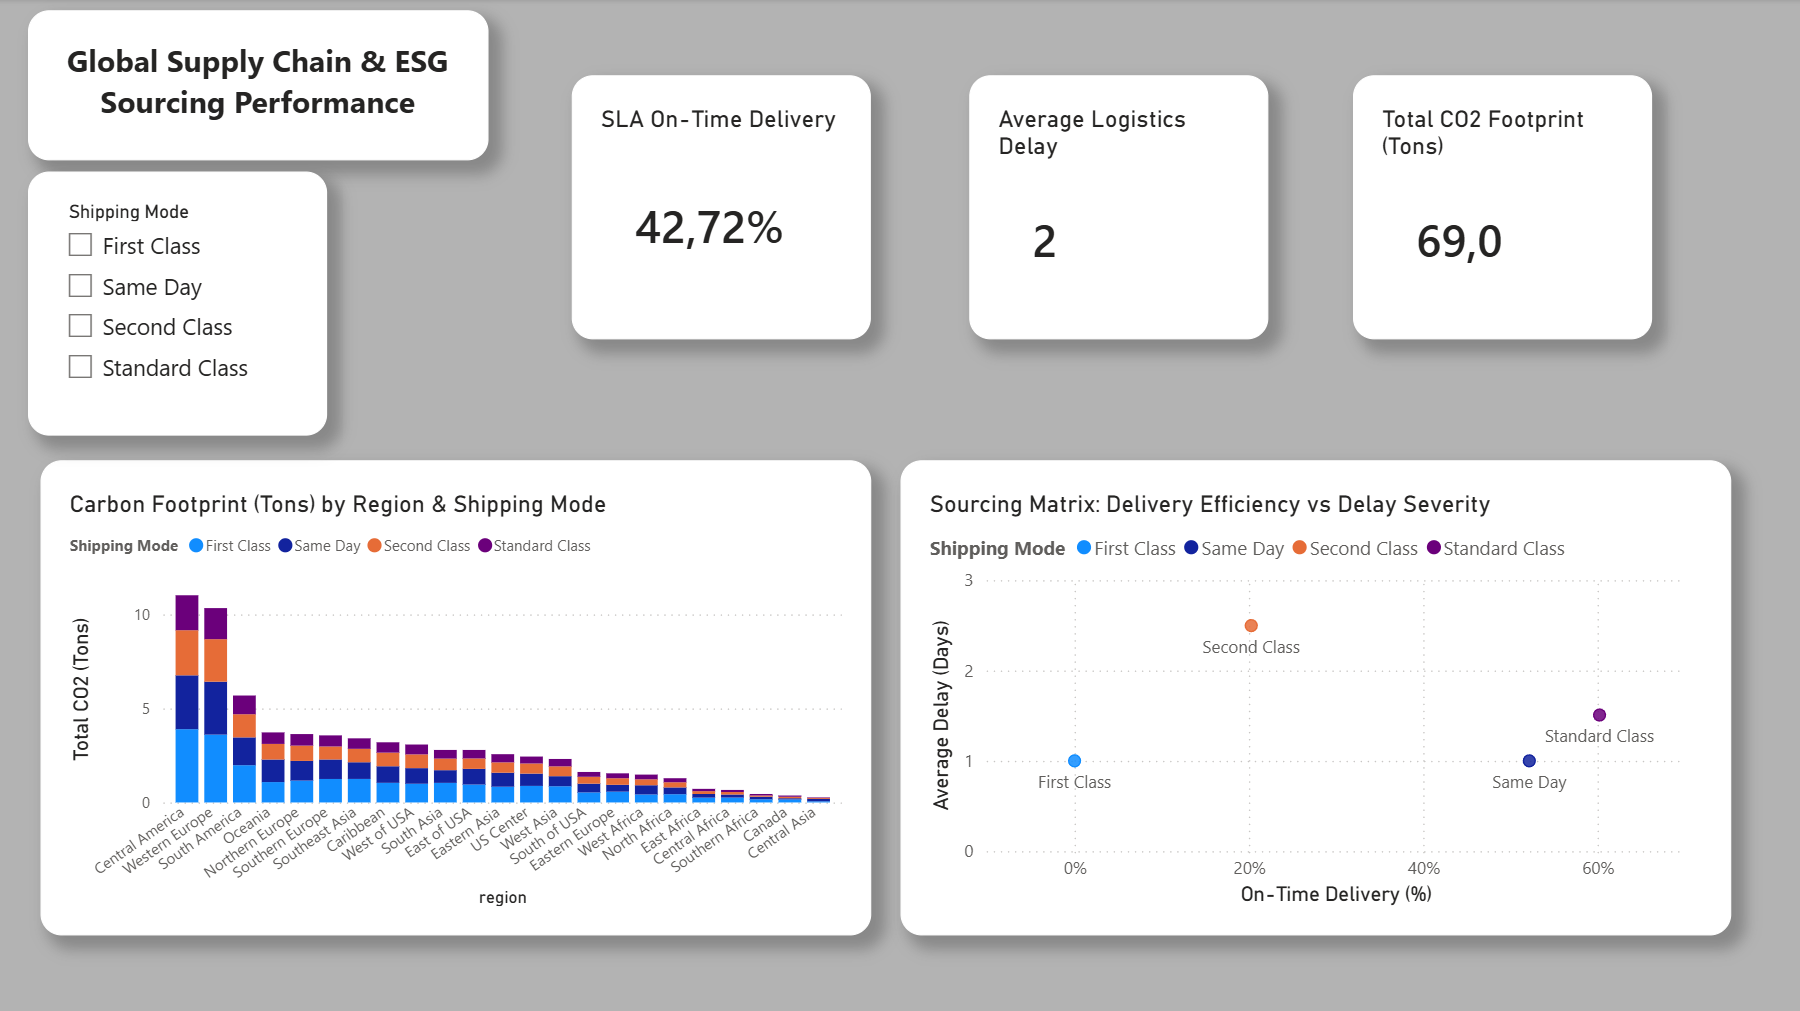

The page's visual inventory and layout, read from the dashboard file:
{"tool":"powerbi","page":{"name":"Page 1","canvas":[1280,720],"ordinal":0},"visuals":[{"type":"textbox","box":[21,8,326,106],"z":0},{"type":"cardVisual","title":"SLA On-Time Delivery","fields":{"Data":["cleaned_logistics_for_pbi.On_Time_Delivery_%"]},"box":[407,54,212,187],"z":1000},{"type":"cardVisual","title":"Total CO2 Footprint (Tons)","fields":{"Data":["cleaned_logistics_for_pbi.Total_CO2_Tons"]},"box":[960,54,212,187],"z":3000},{"type":"columnChart","title":"Carbon Footprint (Tons) by Region & Shipping Mode","fields":{"Category":["cleaned_logistics_for_pbi.region"],"Y":["cleaned_logistics_for_pbi.Total_CO2_Tons"],"Series":["cleaned_logistics_for_pbi.shipping_mode"]},"box":[30,327,589,337],"z":4000},{"type":"scatterChart","title":"Sourcing Matrix: Delivery Efficiency vs Delay Severity","fields":{"X":["cleaned_logistics_for_pbi.On_Time_Delivery_%"],"Y":["cleaned_logistics_for_pbi.Avg_Delay_Days"],"Category":["cleaned_logistics_for_pbi.shipping_mode"],"Series":["cleaned_logistics_for_pbi.shipping_mode"]},"box":[640,327,589,337],"z":5000},{"type":"slicer","fields":{"Values":["cleaned_logistics_for_pbi.shipping_mode"]},"box":[21,122,212,187],"z":6000},{"type":"cardVisual","title":"Average Logistics Delay","fields":{"Data":["cleaned_logistics_for_pbi.Avg_Delay_Days"]},"box":[688,54,212,187],"z":6001}]}

Visuals, with their boxes in screenshot pixels (x1, y1, x2, y2), scaled from the page's 1280x720 canvas onto the 1800x1011 screenshot:
textbox: crop(30, 11, 488, 160)
"SLA On-Time Delivery" cardVisual: crop(572, 76, 870, 338)
"Total CO2 Footprint (Tons)" cardVisual: crop(1350, 76, 1648, 338)
"Carbon Footprint (Tons) by Region & Shipping Mode" columnChart: crop(42, 459, 870, 932)
"Sourcing Matrix: Delivery Efficiency vs Delay Severity" scatterChart: crop(900, 459, 1728, 932)
slicer - cleaned_logistics_for_pbi.shipping_mode: crop(30, 171, 328, 434)
"Average Logistics Delay" cardVisual: crop(968, 76, 1266, 338)
